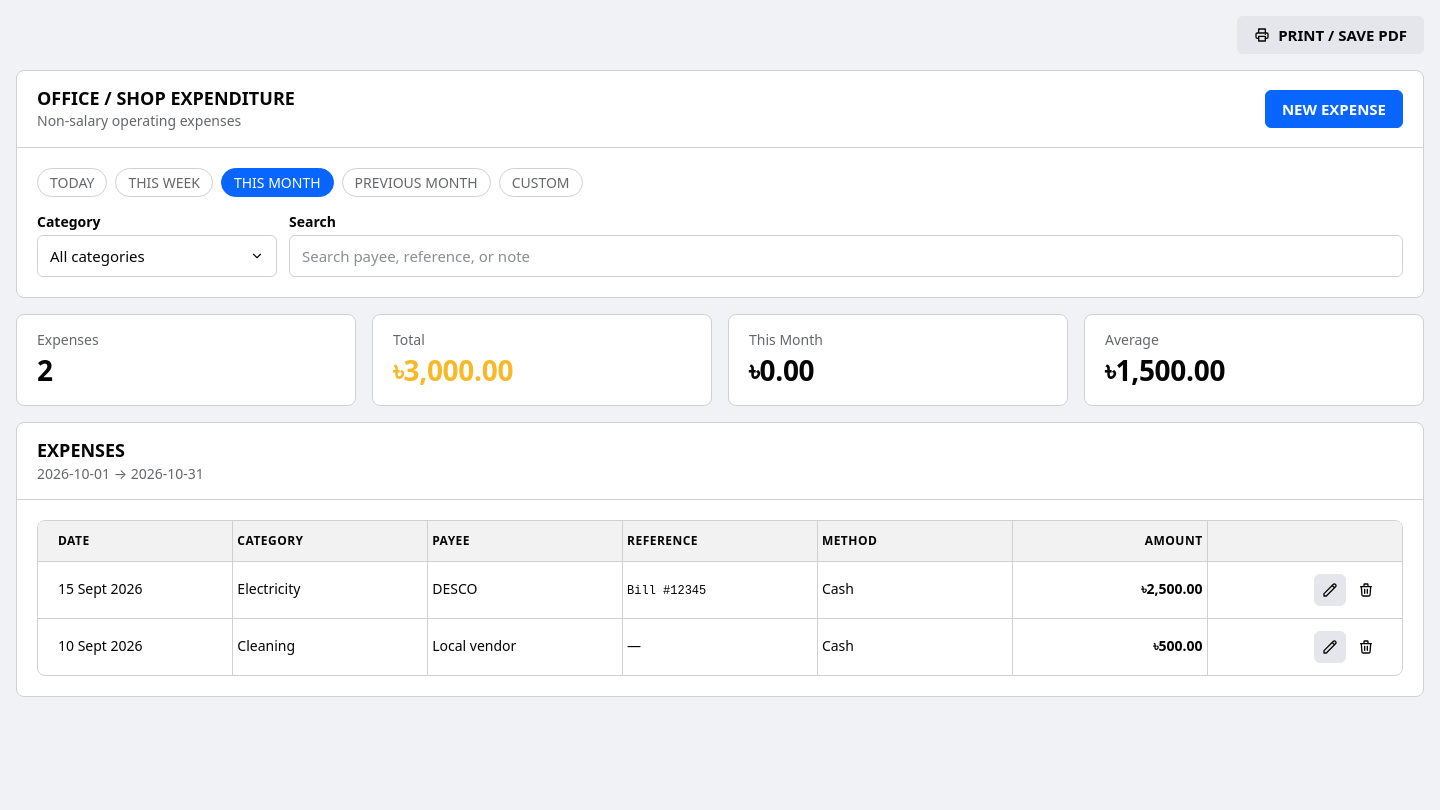
it: ExpenditurePage › searches by payee
The image size is (1440, 810).
expect the text "DESCO" is shown: met, box [428,561,622,618]
Type "desco" into the dropdown with placeholder "Search payee, reference, or note" at (846, 256), box [289,235,1403,277]
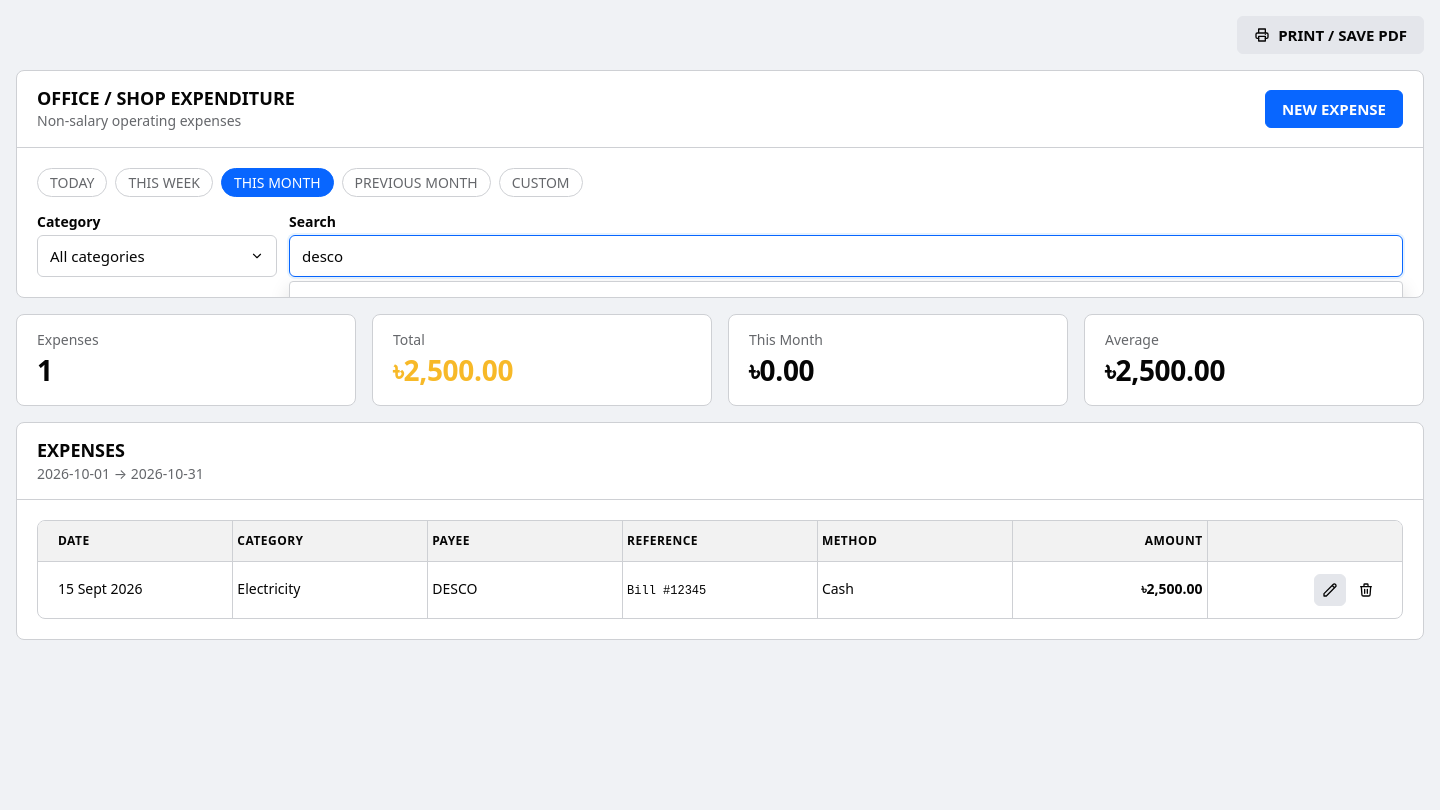
expect the text "DESCO" is shown: met, box [428,561,622,618]
expect the text "Local vendor" is gone: met
